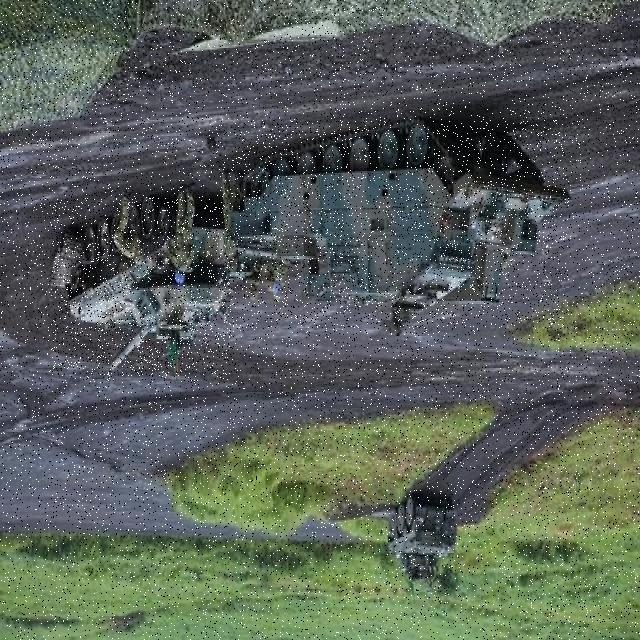MIL_MBT: (234, 120, 568, 328), (52, 198, 236, 376), (386, 495, 463, 591)
